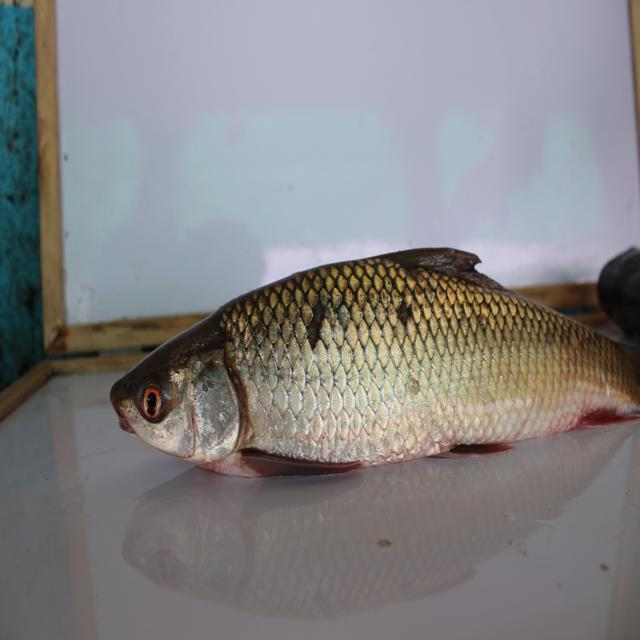Grass Carp: (106, 237, 640, 482)
